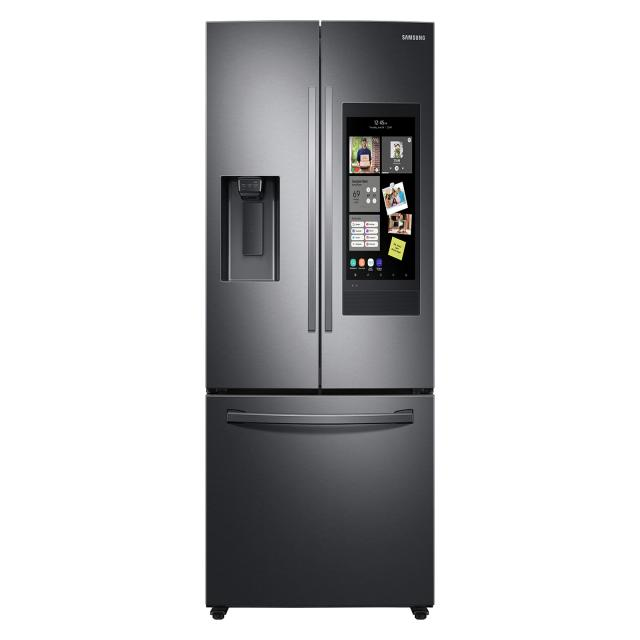refrigerator: (205, 18, 435, 609)
